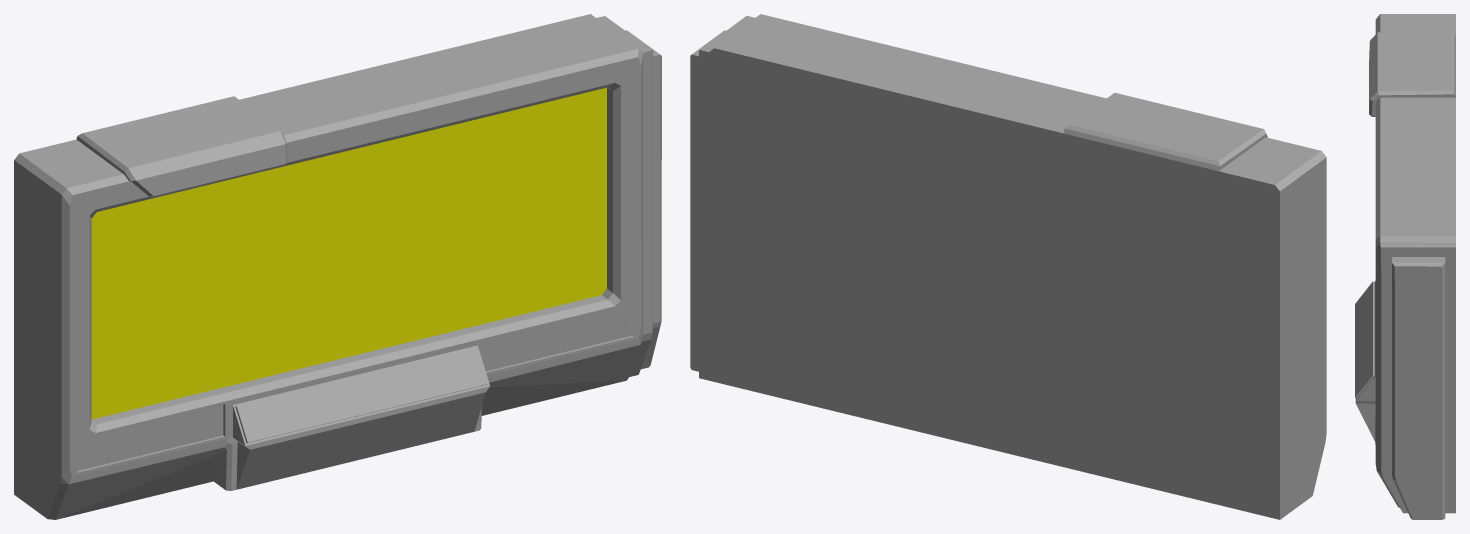
Rendered from Screen_Large.fbx.
3 views of the same model, side by side, from view 1: azimuth 30°, elevation 25°; view 2: azimuth 150°, elevation 25°; view 3: azimuth 270°, elevation 25° (orthographic). The views are drawn at different scales.
Visible parts, largest first — view 1: Screen_Large; view 2: Screen_Large; view 3: Screen_Large.
Part boxes in pixels (x1=…): Screen_Large: x1=14, y1=14, x2=661, y2=519; Screen_Large: x1=690, y1=14, x2=1326, y2=519; Screen_Large: x1=1355, y1=14, x2=1455, y2=519.
Bounding box in the file's own units: 6.14 × 3.34 × 1.1.
